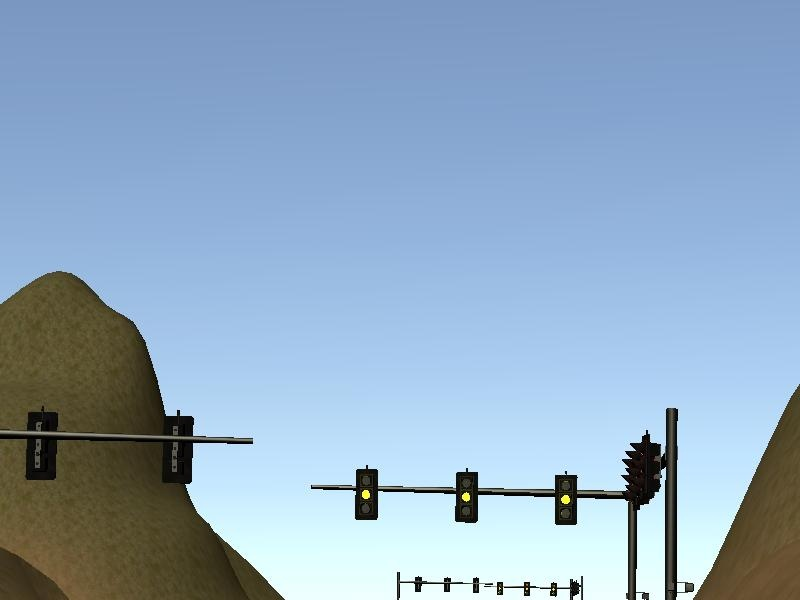YELLOW: (354, 469, 379, 521), (453, 471, 478, 523), (553, 474, 578, 526)
